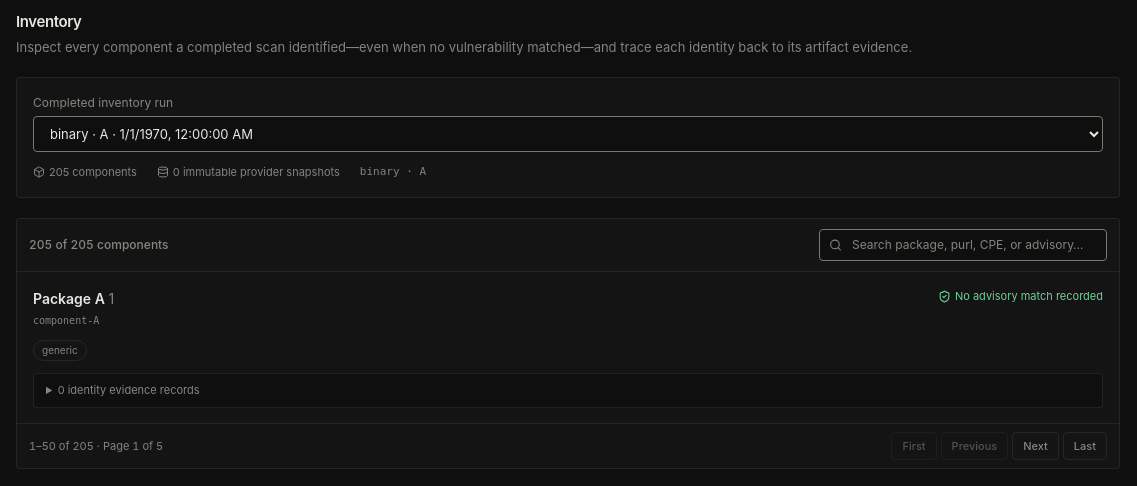
Test case: deep component pages and search use authoritative totals and reject delayed old rows
The width and height of the screenshot is (1137, 486).
Check: the heading "Package A 1" is shown, box left=33, top=288, right=114, bottom=308
Step 1. Click the button named "Last page of inventory components" → (1085, 446), box left=1063, top=432, right=1107, bottom=460
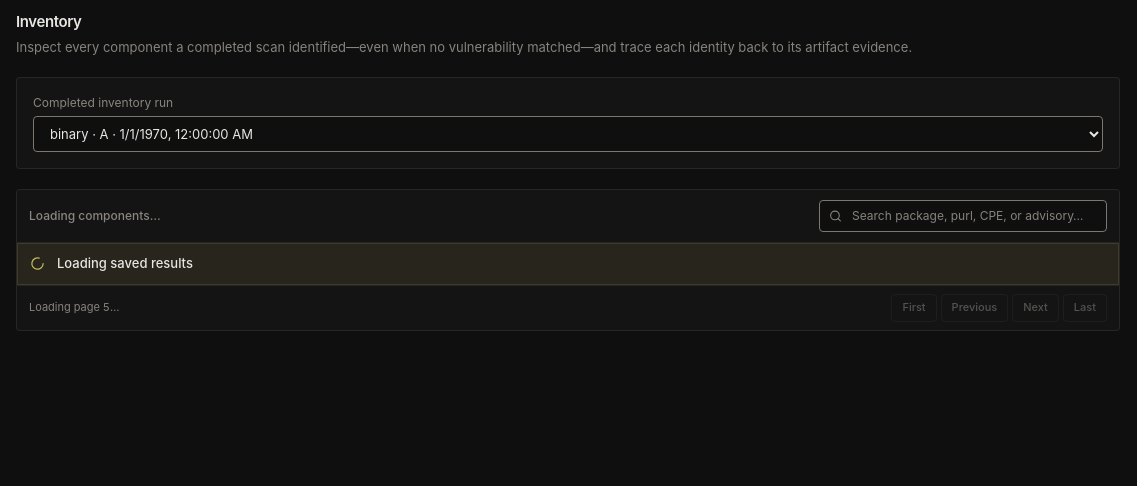
Check: the heading "Package A 1" is gone
Step 2. Type "cve-2026-1234" into the field named "Search inventory" → (963, 216), box left=819, top=200, right=1107, bottom=232
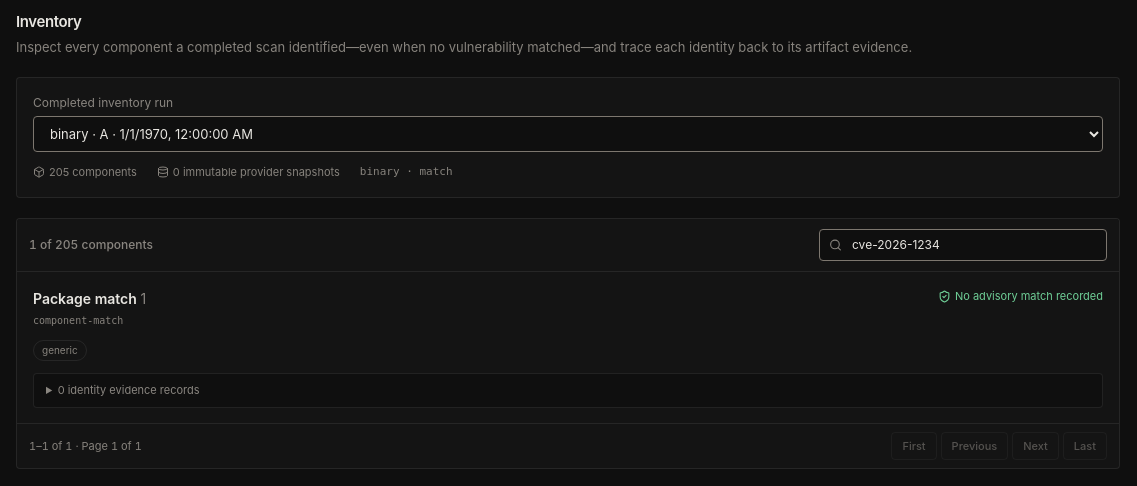
Check: the heading "Package match 1" is shown, box left=33, top=288, right=146, bottom=308
Check: the text "1 of 205 components" is shown, box left=29, top=236, right=153, bottom=254
